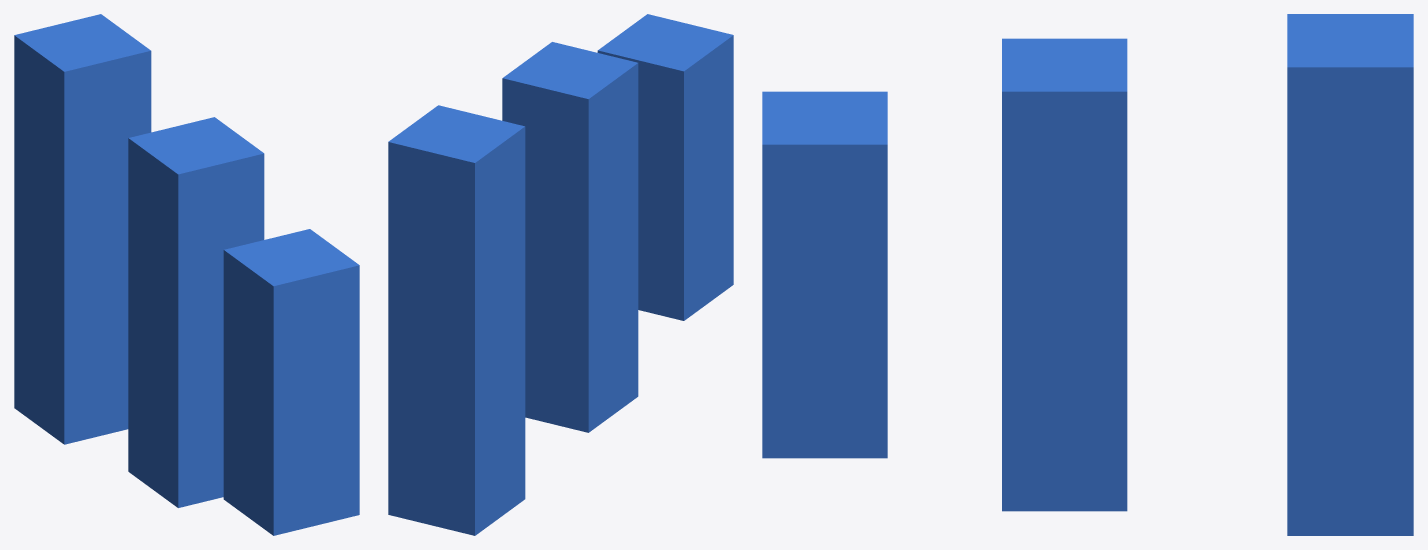
The model's file is rain drops.fbx.
3 views of the same model, side by side, from view 1: azimuth 30°, elevation 25°; view 2: azimuth 150°, elevation 25°; view 3: azimuth 270°, elevation 25° (orthographic). The views are drawn at different scales.
Parts seen in each view (by area): view 1: Cube.001, Cube, Cube.002; view 2: Cube.001, Cube, Cube.002; view 3: Cube.001, Cube, Cube.002.
Part boxes in pixels (x1,y1,x2,y2): Cube.001: [14, 14, 151, 444]; Cube: [128, 117, 264, 507]; Cube.002: [223, 229, 359, 535]; Cube.001: [388, 105, 525, 535]; Cube: [502, 42, 638, 432]; Cube.002: [597, 14, 733, 320]; Cube.001: [1287, 14, 1413, 535]; Cube: [1002, 38, 1127, 511]; Cube.002: [762, 91, 887, 458].
Size of the model in its own units: 17.62 by 72.27 by 91.
